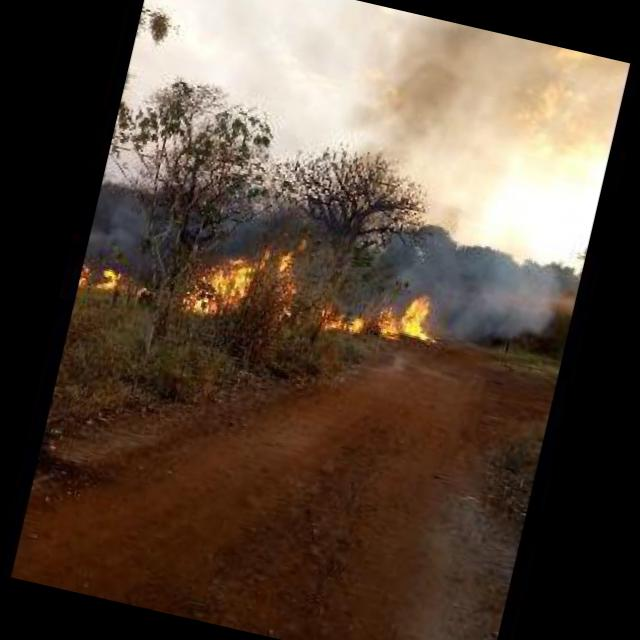fire: (182, 228, 304, 333), (377, 288, 436, 346), (315, 302, 366, 336), (95, 267, 126, 295)
smoke: (348, 6, 628, 214), (388, 216, 578, 356)
